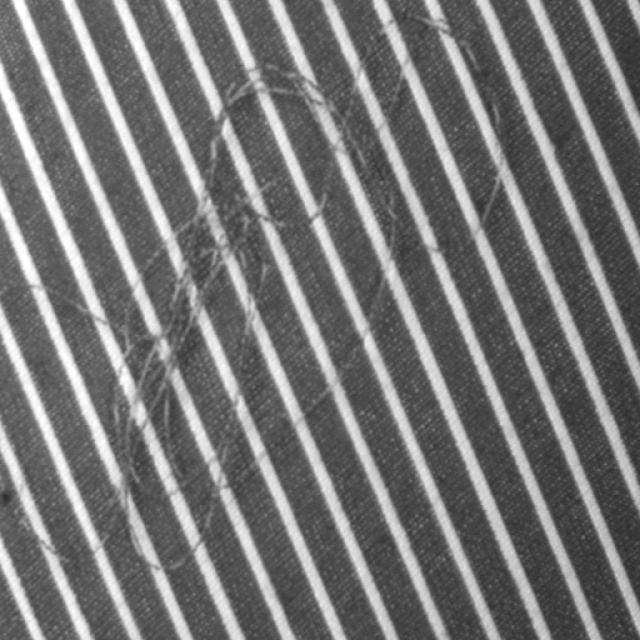Foreign-Body-Defect: (80, 58, 399, 570), (372, 0, 512, 240), (349, 32, 419, 118)
